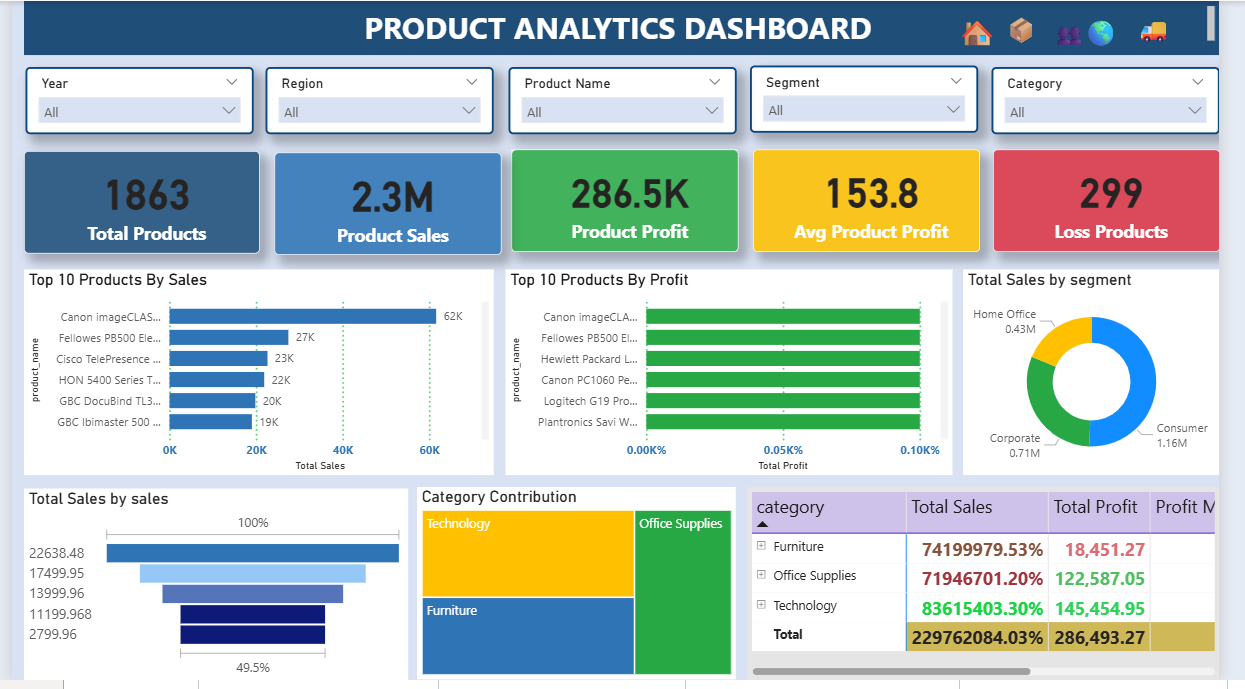

The dashboard page shown, as its layout file describes it:
{"tool":"powerbi","page":{"name":"PRODUCT ANALYTICS","canvas":[1280,720],"ordinal":1},"visuals":[{"type":"textbox","box":[12.7,0,1267.7,57.3],"z":0},{"type":"actionButton","box":[997.3,9.3,50.9,37.6],"z":0,"group":"g7"},{"type":"card","fields":{"Values":["Measures (2).Avg Product Profit"]},"box":[786.3,157.5,240.3,108.7],"z":0,"group":"g3"},{"type":"card","fields":{"Values":["Measures (2).Product Profit"]},"box":[530,157.6,240.3,108.7],"z":0,"group":"g2"},{"type":"card","fields":{"Values":["Measures (2).Loss Products"]},"box":[1040.1,158.2,240.3,108.7],"z":0,"group":"g4"},{"type":"card","fields":{"Values":["Measures (2).Total Products"]},"box":[12.7,159.3,250,108.7],"z":0,"group":"g1"},{"type":"card","fields":{"Values":["Measures (2).Product Sales"]},"box":[278.7,160.2,240.3,108.7],"z":0,"group":"g6"},{"type":"actionButton","box":[1048.2,8,50.9,37.6],"z":1000,"group":"g7"},{"type":"actionButton","box":[1099.1,10.5,52.5,35.1],"z":2000,"group":"g7"},{"type":"slicer","fields":{"Values":["fact_sales.region"]},"box":[268.8,70,241.8,71.6],"z":2000},{"type":"actionButton","box":[1132.5,10.5,49.3,38.8],"z":3000,"group":"g7"},{"type":"actionButton","box":[1188.2,8,65.2,37.6],"z":4000,"group":"g7"},{"type":"slicer","fields":{"Values":["dim_date.year"]},"box":[14.3,70,241.8,71.6],"z":4000},{"type":"slicer","fields":{"Values":["dim_product.category"]},"box":[1038.7,70,241.8,71.6],"z":6000},{"type":"group","id":"g1","title":"Group 1","box":[12.7,159.3,250,108.7],"z":6000,"group":"g5"},{"type":"group","id":"g2","title":"Group 1","box":[530,157.6,240.3,108.7],"z":7000,"group":"g5"},{"type":"slicer","fields":{"Values":["dim_customer.segment"]},"box":[782.6,68.4,241.8,71.6],"z":8000},{"type":"group","id":"g3","title":"Group 1","box":[786.3,157.5,240.3,108.7],"z":8000,"group":"g5"},{"type":"group","id":"g4","title":"Group 1","box":[1040.1,158.2,240.3,108.7],"z":9000,"group":"g5"},{"type":"slicer","fields":{"Values":["dim_product.product_name"]},"box":[526.5,70,241.8,71.6],"z":10000},{"type":"group","id":"g5","title":"Group 2","box":[12.7,157.5,1267.7,111.3],"z":11000},{"type":"group","id":"g6","title":"Group 1","box":[278.7,160.2,240.3,108.7],"z":11000,"group":"g5"},{"type":"barChart","title":"Top 10 Products By Sales","fields":{"Y":["Measures (2).Total Sales"],"Category":["dim_product.product_name"]},"box":[12.7,284.7,497.9,217.9],"z":12000},{"type":"hundredPercentStackedBarChart","title":"Top 10 Products By Profit","fields":{"Y":["Measures (2).Total Profit"],"Category":["dim_product.product_name"]},"box":[523.3,284.7,474,217.9],"z":13000},{"type":"funnel","fields":{"Category":["fact_sales.sales"],"Y":["Measures (2).Total Sales"]},"box":[12.7,516.9,407.2,203.6],"z":14000},{"type":"treemap","title":"Category Contribution","fields":{"Group":["dim_product.category"],"Values":["Measures (2).Total Sales"]},"box":[429.1,516.1,338.1,203.7],"z":15000},{"type":"donutChart","fields":{"Category":["dim_customer.segment"],"Y":["Measures (2).Total Sales"]},"box":[1008.4,284.7,272,217.9],"z":16000},{"type":"pivotTable","fields":{"Values":["Measures (2).Total Sales","Measures (2).Total Profit","Measures (2).Profit Margin %","Sum(fact_sales.quantity)"],"Rows":["dim_product.category","dim_product.product_name"]},"box":[779.4,515.4,501,205.2],"z":17000},{"type":"group","id":"g7","title":"Group 3","box":[997.3,8,256.1,41.4],"z":17007}]}

Visuals, with their boxes in screenshot pixels (x1, y1, x2, y2), scaled from the page's 1280x720 canvas onto the 1245x689 screenshot:
textbox: box(12, 0, 1244, 55)
actionButton: box(970, 9, 1020, 45)
card - Measures (2).Avg Product Profit: box(765, 151, 999, 255)
card - Measures (2).Product Profit: box(516, 151, 749, 255)
card - Measures (2).Loss Products: box(1012, 151, 1244, 255)
card - Measures (2).Total Products: box(12, 152, 256, 256)
card - Measures (2).Product Sales: box(271, 153, 505, 257)
actionButton: box(1020, 8, 1069, 44)
actionButton: box(1069, 10, 1120, 44)
slicer - fact_sales.region: box(261, 67, 497, 136)
actionButton: box(1102, 10, 1149, 47)
actionButton: box(1156, 8, 1219, 44)
slicer - dim_date.year: box(14, 67, 249, 136)
slicer - dim_product.category: box(1010, 67, 1244, 136)
"Group 1" group: box(12, 152, 256, 256)
"Group 1" group: box(516, 151, 749, 255)
slicer - dim_customer.segment: box(761, 65, 996, 134)
"Group 1" group: box(765, 151, 999, 255)
"Group 1" group: box(1012, 151, 1244, 255)
slicer - dim_product.product_name: box(512, 67, 747, 136)
"Group 2" group: box(12, 151, 1244, 257)
"Group 1" group: box(271, 153, 505, 257)
"Top 10 Products By Sales" barChart: box(12, 272, 497, 481)
"Top 10 Products By Profit" hundredPercentStackedBarChart: box(509, 272, 970, 481)
funnel - fact_sales.sales x Measures (2).Total Sales: box(12, 495, 408, 688)
"Category Contribution" treemap: box(417, 494, 746, 688)
donutChart - dim_customer.segment x Measures (2).Total Sales: box(981, 272, 1244, 481)
pivotTable - Measures (2).Total Sales x Measures (2).Total Profit: box(758, 493, 1244, 688)
"Group 3" group: box(970, 8, 1219, 47)
